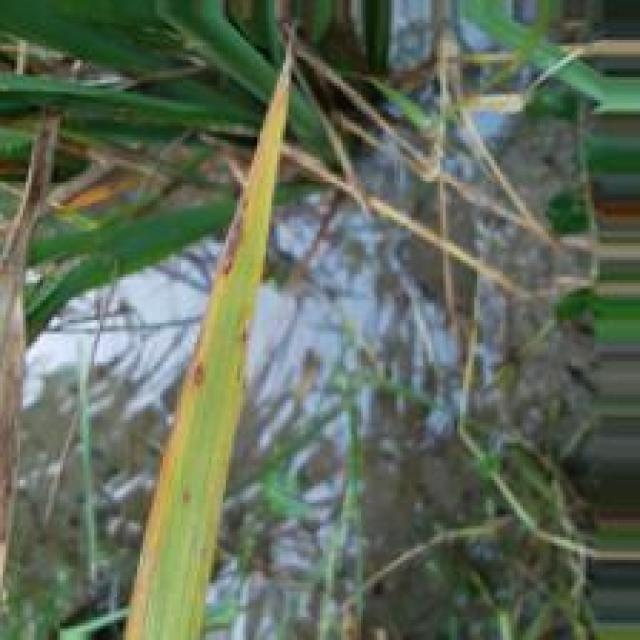Leaf_Blast: (212, 183, 258, 293)
